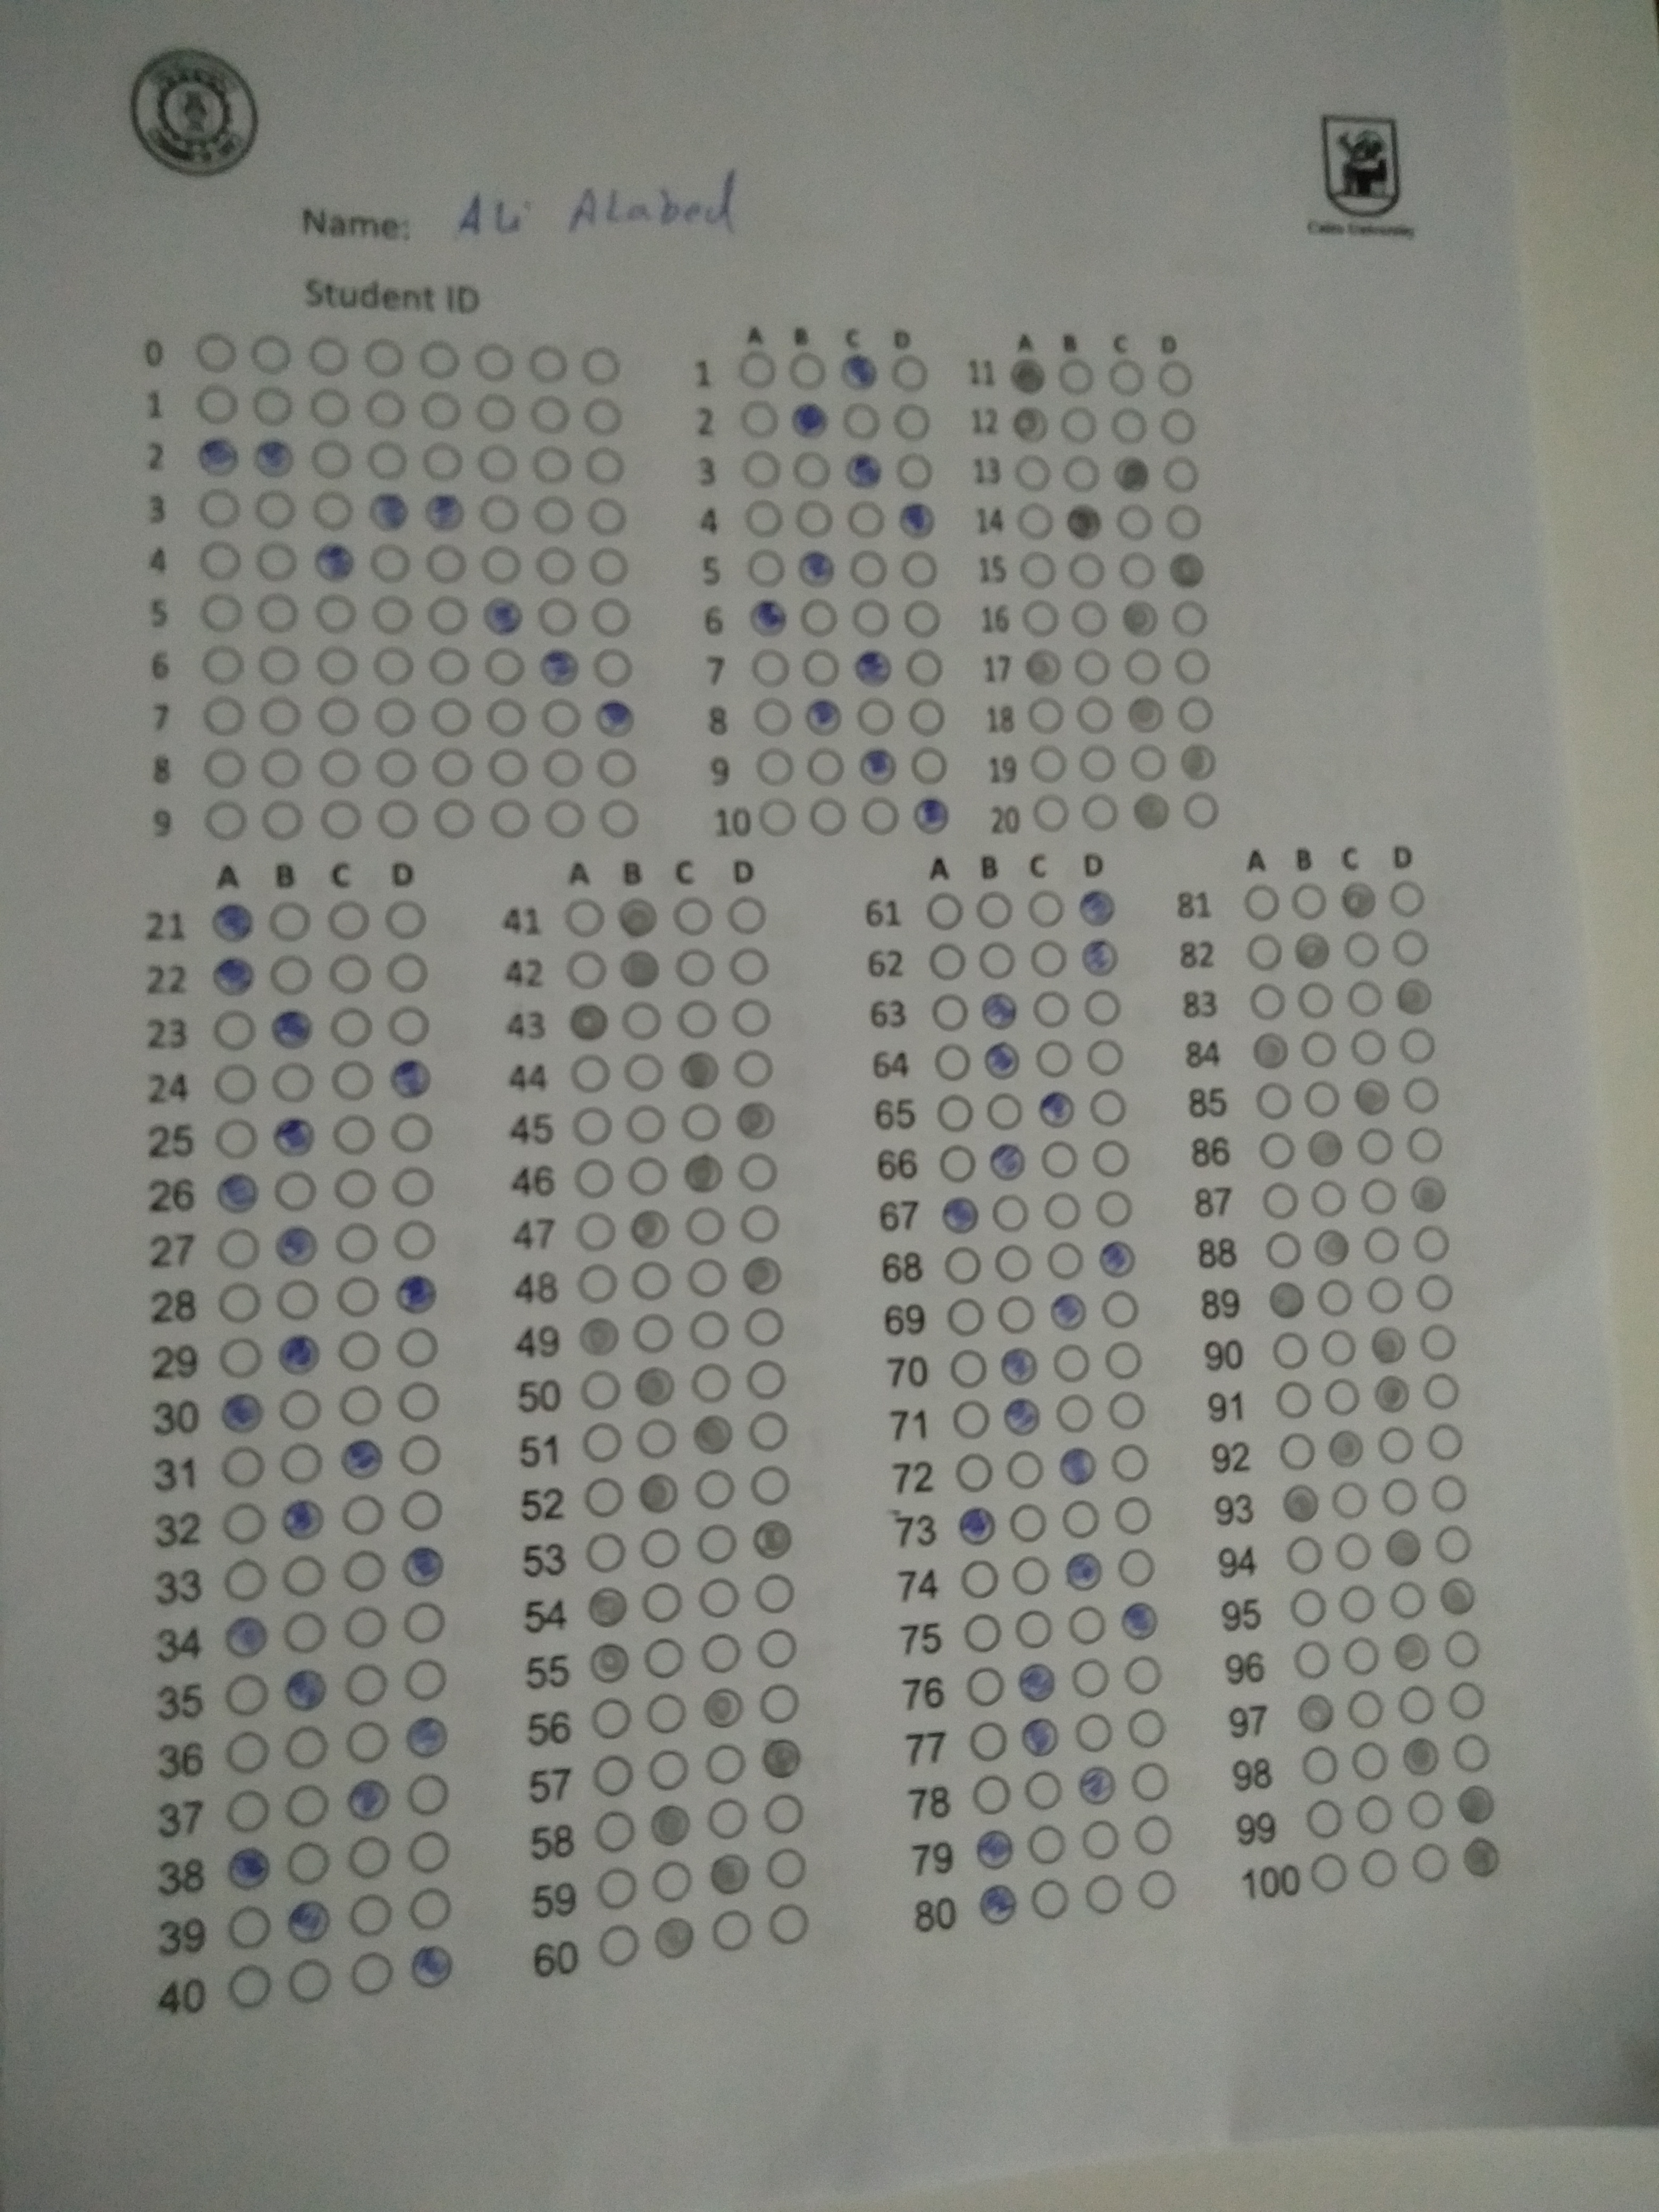not-c: (1079, 1817, 1126, 1864), (1131, 1813, 1178, 1860), (1080, 1871, 1127, 1918), (406, 1827, 453, 1874), (345, 1832, 392, 1879), (225, 1785, 272, 1832), (594, 1919, 640, 1966), (760, 1792, 807, 1838), (640, 1634, 687, 1679), (343, 1719, 390, 1764), (343, 1662, 390, 1707), (695, 1575, 742, 1620), (694, 1519, 741, 1564), (741, 1306, 788, 1352), (685, 1254, 732, 1299), (572, 1209, 619, 1254), (281, 1554, 328, 1599), (399, 1487, 446, 1533), (340, 1493, 387, 1538), (399, 1432, 446, 1477), (396, 1378, 443, 1423), (596, 1867, 641, 1914), (1026, 1820, 1072, 1867), (1134, 1865, 1180, 1912), (1026, 1876, 1072, 1923), (962, 1665, 1009, 1710), (650, 1858, 695, 1905), (709, 1905, 755, 1952), (767, 1900, 812, 1947), (706, 1794, 751, 1841), (592, 1808, 638, 1855), (349, 1949, 394, 1996), (286, 1956, 331, 2003), (406, 1885, 451, 1932), (227, 1963, 274, 2008), (349, 1892, 394, 1939), (228, 1904, 274, 1951), (284, 1838, 329, 1885), (404, 1770, 450, 1817), (284, 1780, 329, 1827), (1049, 1339, 1096, 1385), (1356, 1172, 1403, 1217), (1305, 1176, 1352, 1221), (1260, 1228, 1307, 1273), (1408, 1221, 1455, 1266), (1413, 1270, 1460, 1315), (1312, 1275, 1359, 1320), (1267, 1327, 1314, 1372), (1096, 1285, 1143, 1331), (1110, 1493, 1157, 1538), (1298, 1075, 1345, 1120), (1344, 975, 1391, 1021), (582, 1527, 627, 1573), (636, 1526, 681, 1571), (580, 1475, 626, 1521), (762, 1843, 807, 1888), (704, 1742, 749, 1787), (645, 1747, 690, 1792), (592, 1752, 638, 1797), (641, 1576, 687, 1622), (589, 1695, 634, 1740), (643, 1689, 688, 1735), (282, 1724, 328, 1770), (225, 1728, 270, 1773), (404, 1656, 450, 1702), (699, 1630, 744, 1676), (223, 1670, 268, 1716), (755, 1679, 800, 1724), (755, 1625, 800, 1670), (753, 1571, 798, 1616), (580, 1420, 626, 1465), (634, 1416, 680, 1461), (577, 1366, 622, 1411), (694, 1467, 739, 1512), (746, 1407, 791, 1453), (687, 1308, 732, 1353), (742, 1355, 788, 1400), (687, 1359, 732, 1404), (737, 1202, 782, 1247), (627, 1254, 673, 1299), (573, 1259, 619, 1305), (282, 1609, 328, 1655), (342, 1604, 387, 1649), (401, 1599, 446, 1644), (342, 1548, 387, 1594), (221, 1557, 267, 1602), (279, 1442, 324, 1487), (221, 1444, 267, 1489), (338, 1381, 383, 1426), (275, 1386, 321, 1432), (394, 1324, 439, 1369), (336, 1325, 382, 1371), (335, 1273, 380, 1318), (218, 1334, 263, 1379), (1060, 1494, 1105, 1540), (950, 1449, 995, 1494), (946, 1397, 992, 1442), (1354, 1122, 1399, 1167), (1255, 1127, 1300, 1172), (1405, 1122, 1450, 1167), (1361, 1223, 1406, 1268), (1363, 1273, 1408, 1318), (1316, 1325, 1361, 1371), (1417, 1318, 1462, 1364), (1270, 1378, 1316, 1423), (946, 1345, 992, 1390), (995, 1291, 1040, 1336), (943, 1294, 988, 1339), (1042, 1237, 1087, 1282), (990, 1240, 1035, 1285), (939, 1244, 985, 1289), (1091, 1184, 1136, 1230), (1040, 1188, 1086, 1233), (1087, 1134, 1133, 1179), (1037, 1136, 1082, 1181), (934, 1139, 979, 1184), (1084, 1083, 1129, 1129), (979, 1089, 1025, 1134), (932, 1089, 978, 1134), (1004, 1446, 1049, 1491), (1053, 1392, 1098, 1437), (1101, 1336, 1147, 1381), (1105, 1388, 1150, 1433), (1295, 1026, 1340, 1071), (1293, 977, 1338, 1022), (1246, 979, 1291, 1024), (1347, 1026, 1392, 1071), (1398, 1022, 1443, 1068), (1401, 1073, 1446, 1118), (1340, 925, 1385, 970), (1243, 927, 1288, 972), (1387, 923, 1432, 968), (1387, 874, 1432, 920), (1288, 880, 1333, 925), (1025, 742, 1072, 786), (533, 542, 580, 585), (268, 1059, 315, 1103), (669, 895, 716, 939), (1249, 1078, 1297, 1122), (742, 547, 788, 590), (1058, 402, 1103, 446), (1058, 453, 1103, 496), (1159, 453, 1204, 496), (471, 340, 516, 383), (805, 794, 850, 838), (312, 590, 357, 634), (254, 590, 300, 634), (477, 542, 523, 585), (368, 542, 413, 585), (328, 953, 373, 996), (202, 693, 247, 737), (314, 693, 359, 737), (216, 1280, 261, 1324), (624, 1103, 669, 1146), (568, 1104, 613, 1148), (723, 894, 769, 937), (1108, 1439, 1154, 1482), (749, 1463, 795, 1507), (631, 1312, 676, 1355), (221, 1501, 267, 1545), (1258, 1179, 1303, 1223), (988, 1191, 1033, 1235), (789, 498, 836, 540), (789, 448, 836, 489), (735, 397, 782, 439), (784, 350, 831, 392), (1068, 646, 1115, 688), (528, 444, 575, 486), (584, 496, 631, 538), (474, 491, 521, 533), (307, 489, 354, 531), (308, 439, 355, 481), (305, 385, 352, 427), (249, 385, 296, 427), (857, 794, 904, 836), (751, 745, 798, 787), (803, 745, 850, 787), (577, 343, 624, 385), (254, 644, 301, 686), (314, 644, 361, 686), (423, 594, 471, 636), (591, 646, 638, 688), (587, 597, 634, 639), (211, 1120, 258, 1162), (383, 953, 430, 995), (383, 899, 430, 941), (317, 798, 364, 840), (258, 693, 305, 735), (683, 1205, 730, 1247), (213, 1226, 260, 1268), (927, 1042, 974, 1083), (734, 1150, 781, 1191), (728, 996, 775, 1038), (620, 1050, 667, 1092), (270, 1170, 317, 1212), (1077, 986, 1124, 1028), (1021, 885, 1068, 927), (971, 887, 1018, 928), (669, 944, 716, 986), (192, 333, 237, 374), (195, 383, 240, 425), (525, 343, 570, 385), (798, 597, 843, 639), (849, 597, 894, 639), (897, 599, 943, 641), (896, 549, 941, 590), (845, 549, 890, 590), (843, 498, 889, 540), (741, 498, 786, 540), (892, 449, 938, 491), (737, 448, 782, 489), (1009, 451, 1054, 493), (1157, 404, 1202, 446), (1108, 404, 1154, 446), (890, 401, 936, 442), (840, 399, 885, 441), (1154, 357, 1199, 399), (1103, 355, 1148, 397), (1054, 354, 1100, 395), (889, 352, 934, 394), (737, 347, 782, 388), (1178, 791, 1223, 833), (1126, 742, 1171, 784), (1075, 742, 1121, 784), (1025, 693, 1070, 735), (1073, 695, 1119, 737), (1173, 693, 1218, 735), (1121, 644, 1166, 686), (1019, 597, 1065, 639), (1068, 597, 1114, 639), (1173, 643, 1218, 685), (1168, 596, 1213, 637), (1016, 549, 1061, 590), (1063, 549, 1108, 590), (1115, 549, 1161, 590), (1011, 500, 1056, 542), (1112, 500, 1157, 542), (1162, 500, 1208, 542), (901, 648, 946, 690), (798, 648, 843, 690), (748, 644, 793, 686), (577, 395, 622, 437), (525, 394, 570, 435), (472, 392, 518, 434), (420, 441, 465, 482), (364, 439, 410, 481), (476, 444, 521, 486), (582, 446, 627, 488), (530, 495, 575, 536), (253, 489, 298, 531), (197, 488, 242, 529), (418, 390, 464, 432), (362, 388, 408, 430), (415, 338, 460, 380), (361, 334, 406, 376), (307, 334, 352, 376), (246, 333, 291, 374), (753, 796, 798, 838), (904, 695, 950, 737), (749, 695, 795, 737), (852, 695, 897, 737), (908, 745, 953, 787), (1028, 791, 1073, 833), (1079, 791, 1124, 833), (204, 799, 249, 841), (373, 697, 418, 738), (430, 695, 476, 737), (484, 693, 530, 735), (199, 644, 244, 686), (371, 644, 416, 686), (427, 646, 472, 688), (368, 592, 413, 634), (197, 592, 242, 634), (376, 798, 422, 840), (432, 798, 477, 840), (488, 796, 533, 838), (483, 646, 528, 688), (540, 697, 586, 738), (540, 747, 586, 789), (544, 798, 589, 840), (598, 796, 643, 838), (594, 747, 640, 789), (537, 596, 582, 637), (587, 543, 633, 585), (423, 540, 469, 582), (251, 540, 296, 582), (197, 538, 242, 580), (204, 747, 249, 789), (260, 799, 305, 841), (258, 749, 303, 791), (392, 1165, 437, 1207), (387, 1113, 432, 1155), (331, 1113, 376, 1155), (329, 1061, 375, 1103), (213, 1062, 258, 1104), (385, 1005, 430, 1047), (328, 1007, 373, 1049), (211, 1008, 256, 1050), (270, 954, 315, 996), (326, 900, 371, 942), (267, 899, 312, 941), (922, 890, 967, 932), (561, 897, 606, 939), (319, 747, 364, 789), (373, 747, 418, 789), (430, 745, 476, 787), (486, 747, 532, 789), (274, 1277, 319, 1318), (392, 1219, 437, 1261), (331, 1221, 376, 1263), (626, 1155, 671, 1197), (572, 1158, 617, 1200), (1084, 1036, 1129, 1078), (1030, 1036, 1075, 1078), (680, 1101, 725, 1143), (730, 1049, 775, 1090), (566, 1050, 612, 1092), (674, 996, 720, 1038), (617, 1000, 662, 1042), (335, 1167, 380, 1209), (1243, 881, 1288, 923), (1026, 988, 1072, 1029), (1026, 937, 1072, 979), (927, 991, 972, 1033), (976, 939, 1021, 981), (922, 941, 967, 982), (728, 946, 774, 988), (563, 949, 608, 991), (1321, 1376, 1366, 1418), (1012, 1608, 1058, 1649), (1427, 1474, 1473, 1515), (1283, 1533, 1328, 1575), (1122, 1707, 1168, 1749), (1070, 1712, 1115, 1754), (1127, 1761, 1173, 1803), (1446, 1679, 1492, 1721), (1300, 1799, 1345, 1841), (1354, 1794, 1399, 1836), (1450, 1733, 1495, 1775), (1309, 1851, 1354, 1893), (1122, 1655, 1166, 1696), (1066, 1602, 1110, 1644), (1068, 1656, 1112, 1698), (1009, 1501, 1053, 1543), (1419, 1369, 1462, 1411), (1425, 1421, 1469, 1463), (1330, 1479, 1373, 1521), (1377, 1477, 1420, 1519), (1114, 1547, 1157, 1588), (1009, 1554, 1053, 1595), (960, 1611, 1004, 1653), (957, 1559, 1000, 1601), (1431, 1524, 1474, 1566), (967, 1719, 1011, 1761), (971, 1775, 1014, 1817), (1021, 1770, 1065, 1811), (1288, 1587, 1331, 1629), (1337, 1581, 1380, 1623), (1443, 1629, 1486, 1670), (1342, 1635, 1385, 1677), (1291, 1637, 1335, 1679), (1398, 1684, 1441, 1726), (1349, 1740, 1392, 1782), (1410, 1843, 1453, 1885), (1358, 1846, 1401, 1888), (1377, 1425, 1420, 1465), (1274, 1432, 1317, 1472), (1331, 1531, 1375, 1571), (1389, 1581, 1432, 1622), (1345, 1688, 1389, 1728), (1300, 1745, 1344, 1785), (1405, 1789, 1448, 1829)
taken-c: (631, 1364, 681, 1409), (274, 1332, 324, 1378), (739, 1251, 788, 1296), (629, 1205, 678, 1251), (399, 1545, 448, 1590), (336, 1437, 385, 1482), (216, 1392, 265, 1437), (211, 1170, 260, 1216), (953, 1501, 1002, 1547), (699, 1684, 748, 1730), (645, 1801, 694, 1846), (971, 1827, 1019, 1872), (1014, 1660, 1063, 1705), (1016, 1716, 1065, 1761), (704, 1851, 753, 1897), (648, 1914, 697, 1959), (406, 1944, 455, 1989), (284, 1898, 333, 1944), (225, 1846, 274, 1892), (345, 1778, 394, 1824), (403, 1714, 451, 1759), (281, 1667, 329, 1712), (1405, 1170, 1453, 1216), (1244, 1026, 1293, 1071), (993, 1343, 1042, 1388), (1000, 1395, 1049, 1440), (1056, 1444, 1105, 1489), (1046, 1289, 1094, 1334), (690, 1411, 739, 1456), (749, 1515, 798, 1561), (1262, 1278, 1310, 1324), (1288, 927, 1337, 972), (1333, 876, 1382, 921), (1072, 1764, 1122, 1808), (577, 1315, 626, 1359), (678, 1151, 727, 1195), (279, 1496, 328, 1540), (392, 1273, 441, 1317), (274, 1223, 322, 1266), (582, 1585, 631, 1629), (587, 1641, 636, 1684), (758, 1737, 807, 1780), (1115, 1599, 1164, 1642), (972, 1883, 1021, 1926), (221, 1615, 270, 1658), (1347, 1073, 1396, 1116), (638, 1472, 687, 1515), (1061, 1548, 1110, 1592), (1364, 1322, 1413, 1366), (538, 644, 582, 690), (422, 489, 465, 535), (1093, 1237, 1138, 1280), (986, 1141, 1032, 1184), (566, 1000, 612, 1043), (1455, 1782, 1499, 1827), (1399, 1733, 1443, 1778), (1295, 1689, 1338, 1735), (1391, 1630, 1434, 1676), (1436, 1575, 1480, 1620), (1380, 1526, 1424, 1571), (1324, 1425, 1368, 1470), (1370, 1371, 1413, 1416), (1460, 1834, 1504, 1879), (479, 594, 523, 637), (312, 540, 355, 583), (251, 435, 295, 479), (939, 1193, 983, 1237), (981, 1040, 1025, 1083), (978, 989, 1021, 1033), (678, 1049, 721, 1092), (272, 1115, 315, 1158), (270, 1007, 314, 1050), (617, 946, 660, 989), (1279, 1482, 1323, 1526), (368, 489, 410, 535), (1077, 937, 1122, 979), (910, 794, 951, 838), (592, 697, 634, 740), (199, 435, 240, 479), (803, 697, 845, 740), (735, 1099, 779, 1141), (1037, 1090, 1080, 1132), (1073, 887, 1117, 928), (389, 1057, 432, 1099), (211, 954, 254, 996), (615, 897, 659, 939), (211, 900, 254, 942), (1392, 974, 1436, 1015), (1011, 404, 1051, 444), (1119, 597, 1159, 637), (1166, 550, 1206, 590), (748, 597, 788, 637), (795, 549, 835, 589), (843, 449, 884, 489), (1112, 453, 1152, 493), (840, 350, 880, 390), (1009, 357, 1049, 395), (854, 650, 894, 688), (1131, 791, 1171, 829), (1126, 693, 1166, 732), (1025, 648, 1065, 686), (897, 502, 938, 540), (788, 401, 828, 439), (1178, 742, 1216, 780), (1065, 502, 1103, 540)
